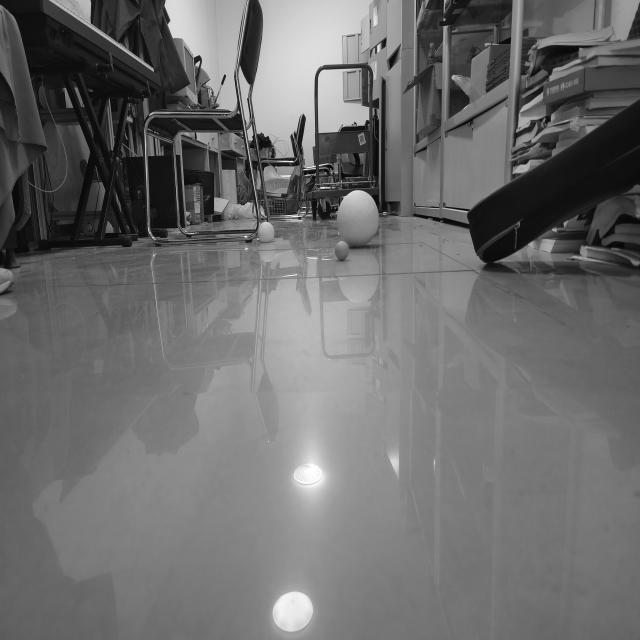ping-pong-ball: (334, 241, 350, 261)
